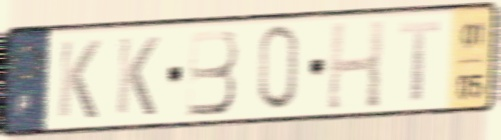0: (255, 22, 301, 117)
B: (184, 26, 241, 120)
H: (323, 17, 388, 113)
K: (113, 34, 162, 119), (55, 37, 104, 122)
T: (396, 18, 444, 105)
